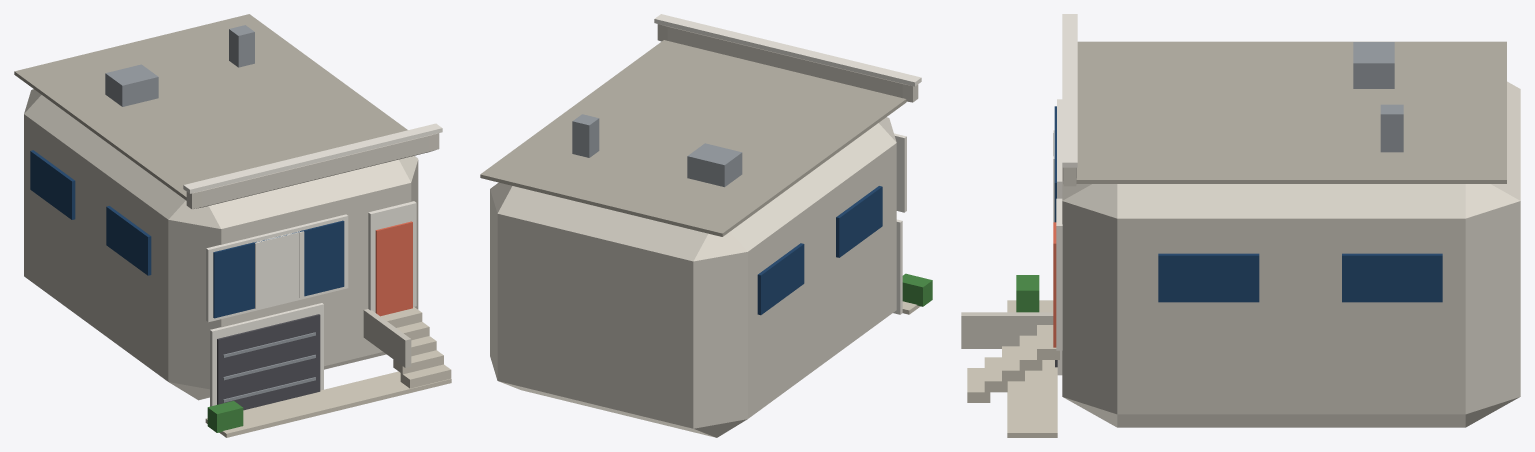
File: sunset_w7_plain_pic.glb
3 renders of one model, left to right at view 1: azimuth 30°, elevation 25°; view 2: azimuth 150°, elevation 25°; view 3: azimuth 270°, elevation 25°, orthographic. The views are drawn at different scales.
Visible parts, largest first — view 1: walls, roofslab, gdoor, pwin, patio, pp1, door, pcap, pmull, pfr, gfr, dfr (+9 smaller); view 2: walls, roofslab, pp1, pcap, sb.002, sb, hvac, pipe, pfr, hedge, gfr; view 3: walls, roofslab, sb.001, sb.003, patio, srail, pcap, hvac, pipe, dfr, hedge, stair.003 (+5 smaller).
Part boxes in pixels (x1,y1,x2,y2): walls: (24,89,418,400); roofslab: (14,14,407,200); gdoor: (217,314,320,410); pwin: (213,220,344,318); patio: (205,371,451,437); pp1: (186,133,439,209); door: (375,221,412,316); pcap: (183,123,442,193); pmull: (257,231,299,307); pfr: (206,214,348,322); gfr: (210,303,323,406); dfr: (368,201,416,312); walls: (490,117,896,437); roofslab: (480,40,906,236); pp1: (657,24,918,102); pcap: (654,14,921,86); sb.002: (757,243,804,315); sb: (836,186,882,257); hvac: (687,143,742,187); pipe: (572,114,599,157); pfr: (894,133,906,212); hedge: (902,273,932,306); gfr: (893,219,902,314); walls: (1062,81,1520,427); roofslab: (1076,41,1506,183); sb.001: (1158,253,1259,302); sb.003: (1342,253,1442,302); patio: (1007,300,1057,437); srail: (961,312,1053,348); pcap: (1062,14,1077,167); hvac: (1353,42,1394,88); pipe: (1380,104,1403,152); dfr: (1056,198,1062,350); hedge: (1016,275,1039,312); stair.003: (984,357,1007,392).
Size of the model in its own units: 7.8 by 7.2 by 12.2.
